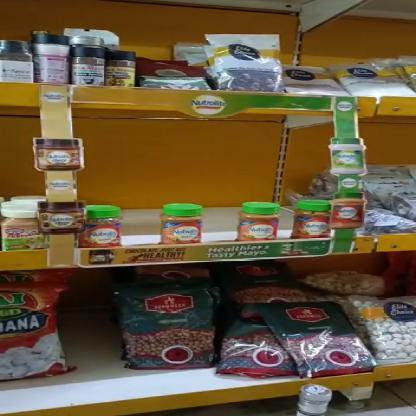Nutralite TANDOORI MAYO 300g-275g-25g-: (158, 201, 202, 245), (237, 202, 281, 242), (80, 203, 118, 249), (292, 198, 328, 239)
